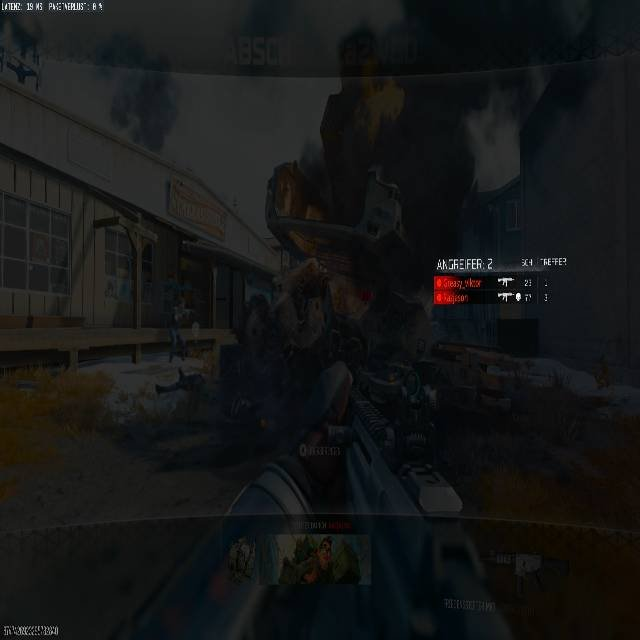head: (335, 25, 384, 91)
player: (246, 21, 486, 448), (93, 32, 178, 153), (160, 266, 199, 373)
